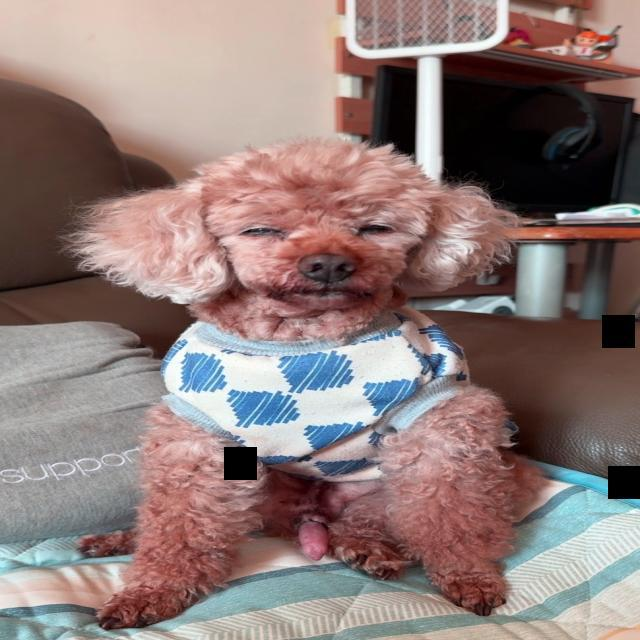adult_dog: (61, 128, 534, 630)
